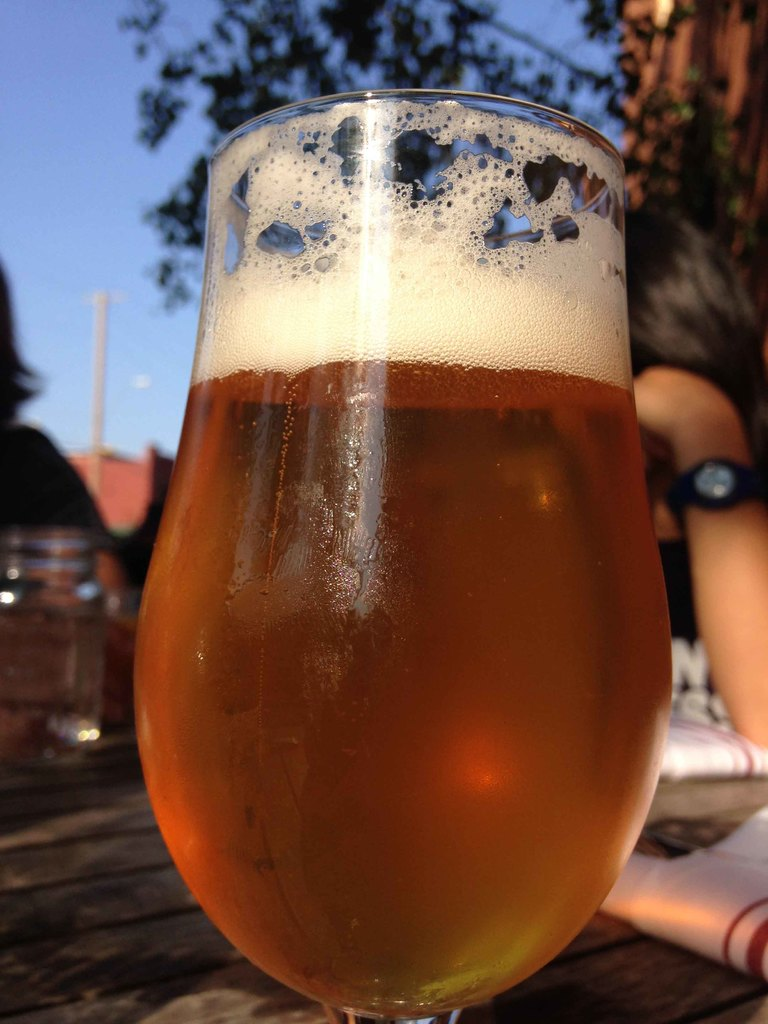Beer: (136, 94, 650, 1012)
